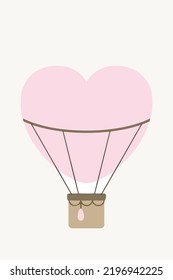heart: (20, 64, 154, 182)
